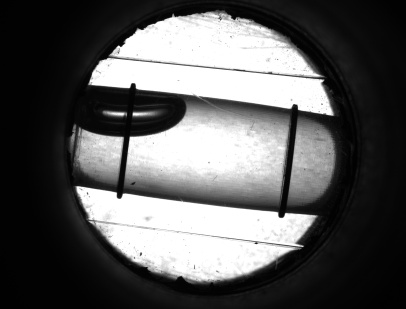line: (275, 122, 301, 198), (116, 143, 132, 179)
